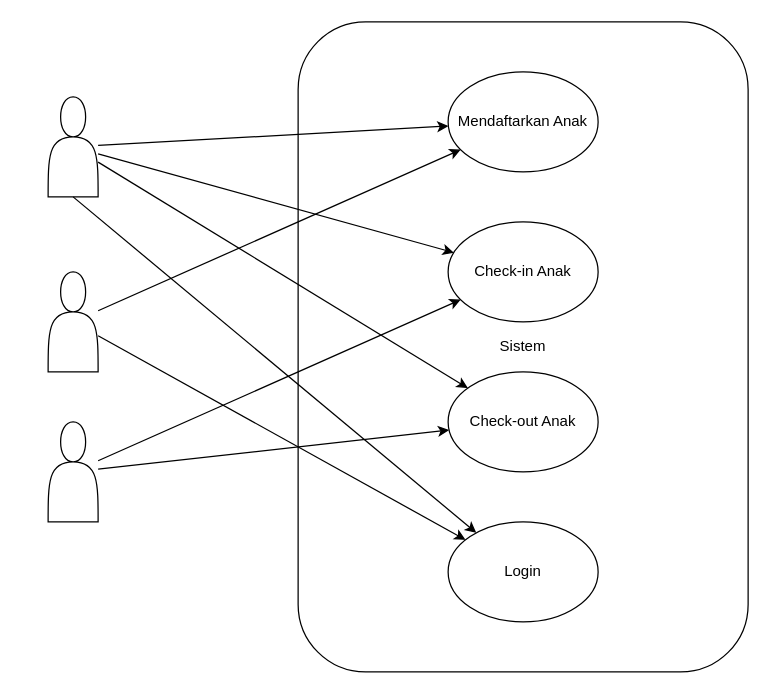
This 770x694 diagram has some shape labels left out. Each missing label, with the centre of its shape:
"Admin" goes at (x=72, y=321).
"Orang Tua/Wali" goes at (x=72, y=146).
"Staf" goes at (x=72, y=471).
